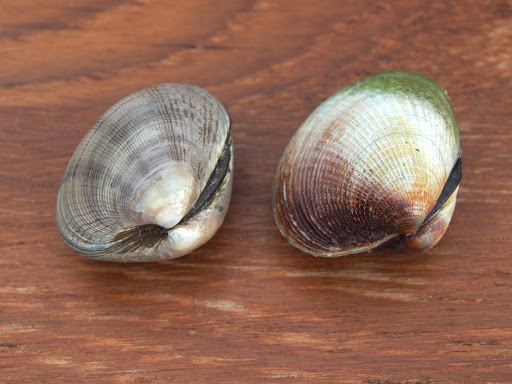cockle: (271, 67, 467, 264), (52, 79, 236, 265)
